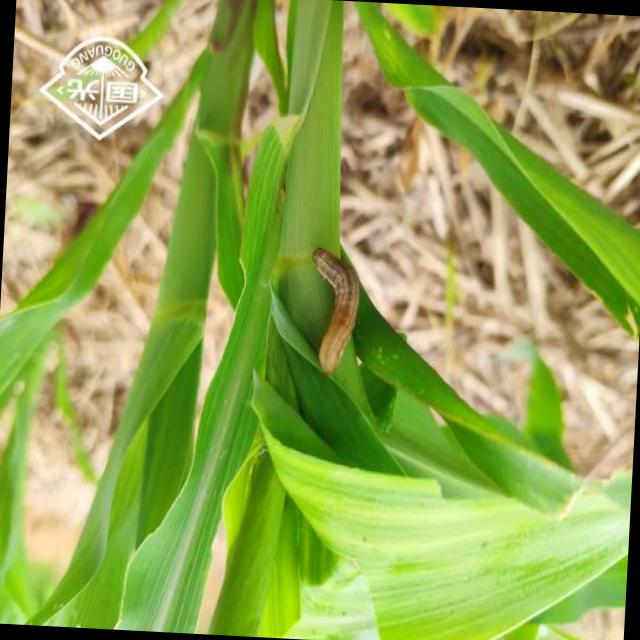pest: (307, 245, 365, 378)
